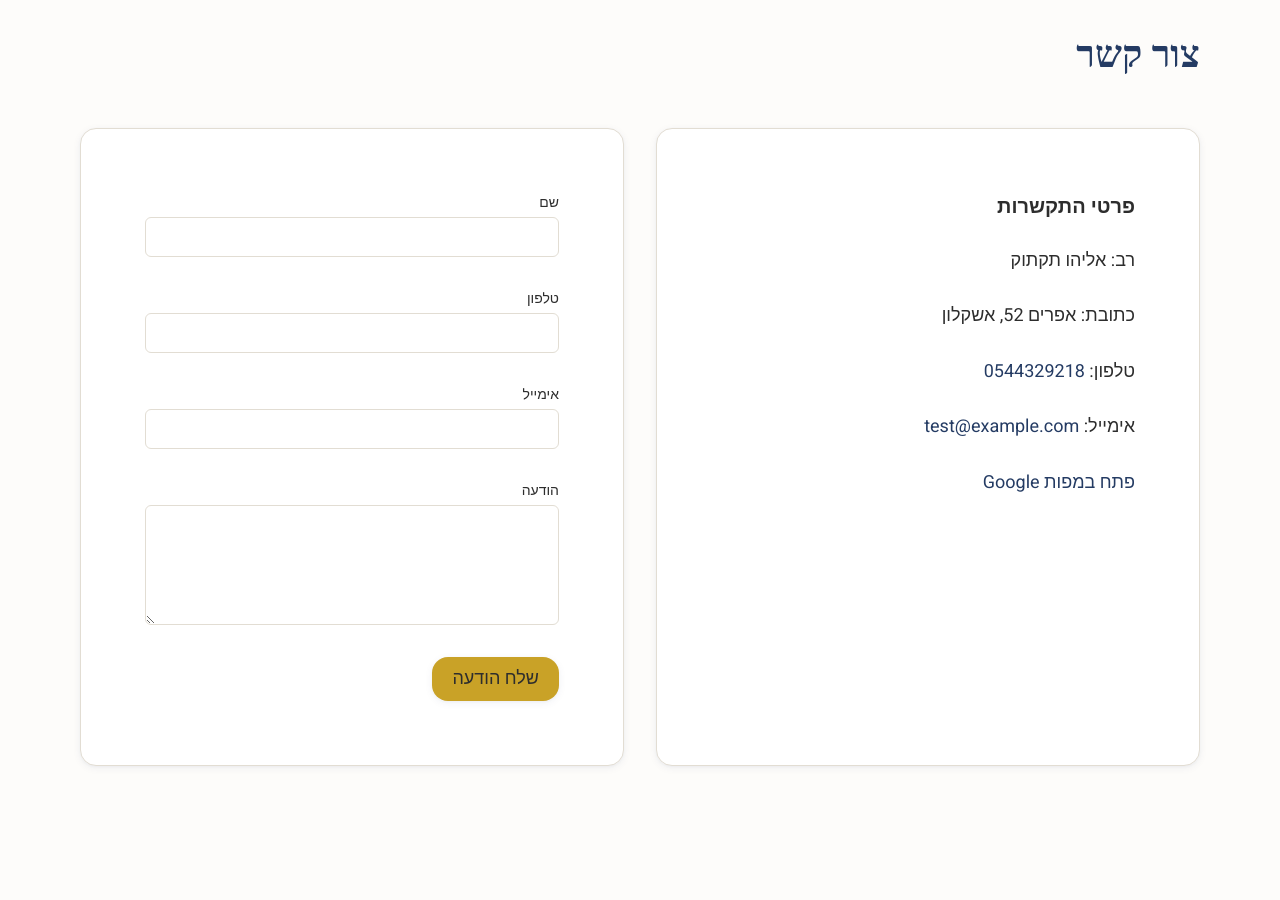
Test: ContactPage › submits valid form
Type "ישראל ישראלי" into the field labelled "שם" at (352,236), box [145,216,559,256]
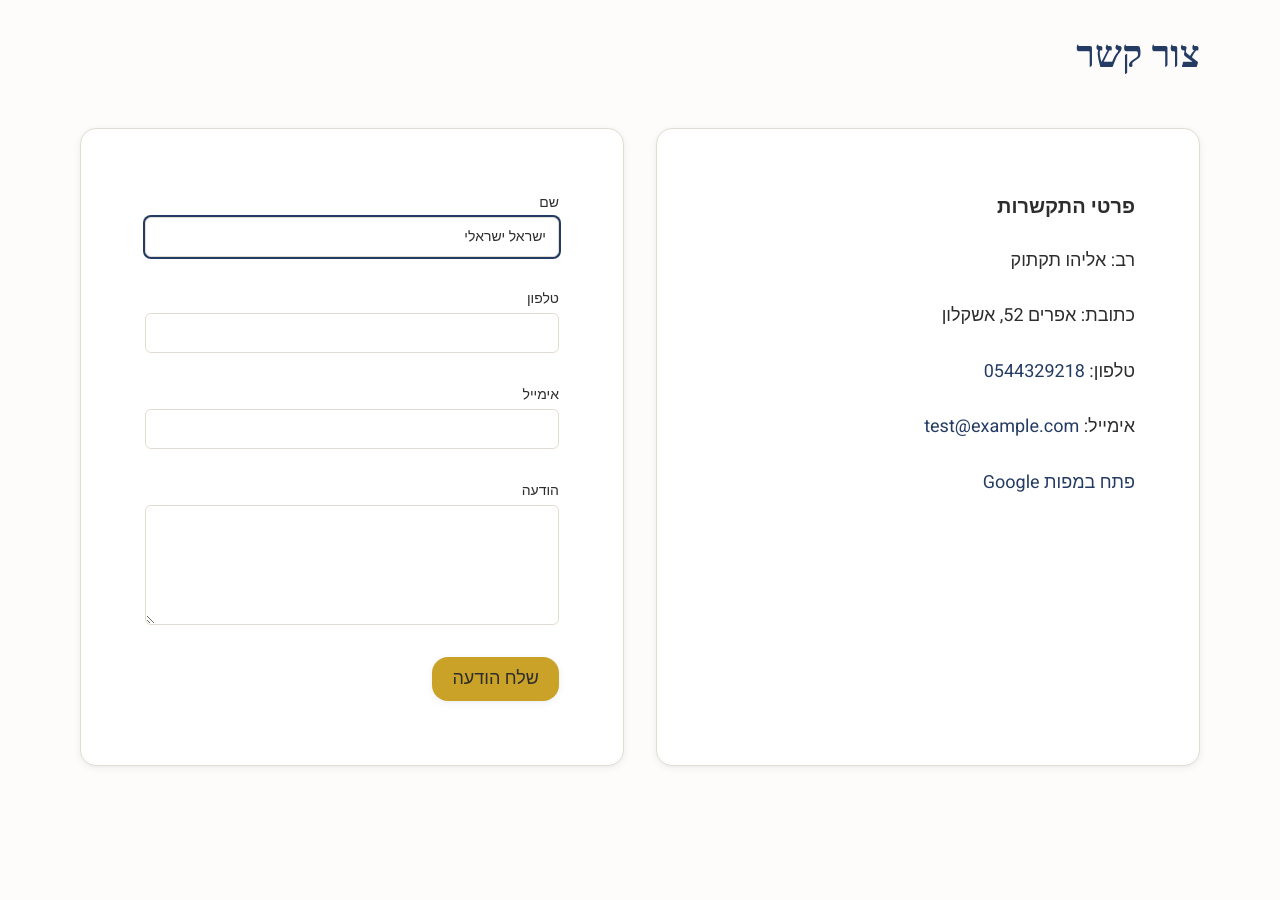
Type "0501234567" into the field labelled "טלפון" at (352,332), box [145,312,559,352]
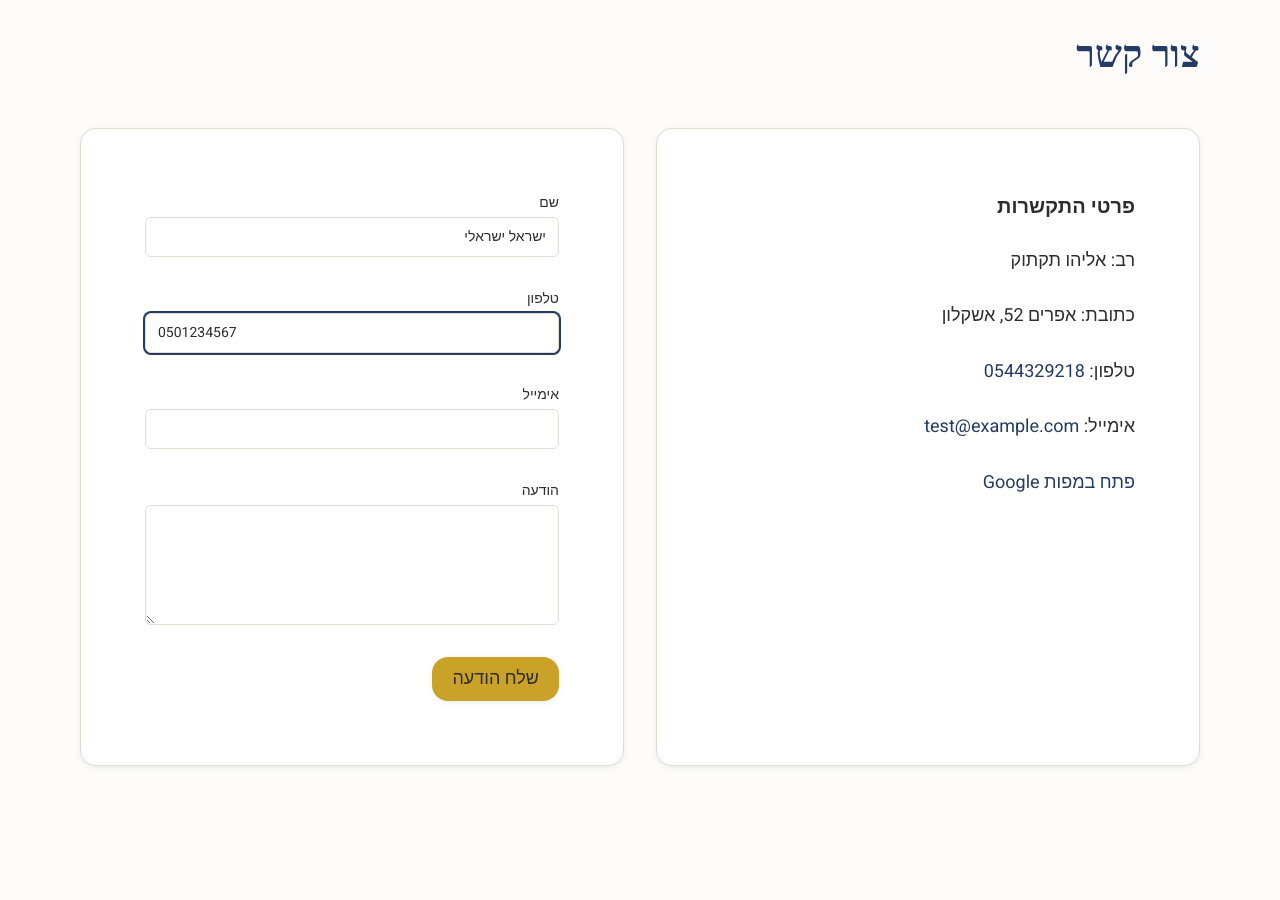
Type "test@example.com" into the field labelled "אימייל" at (352,428), box [145,408,559,448]
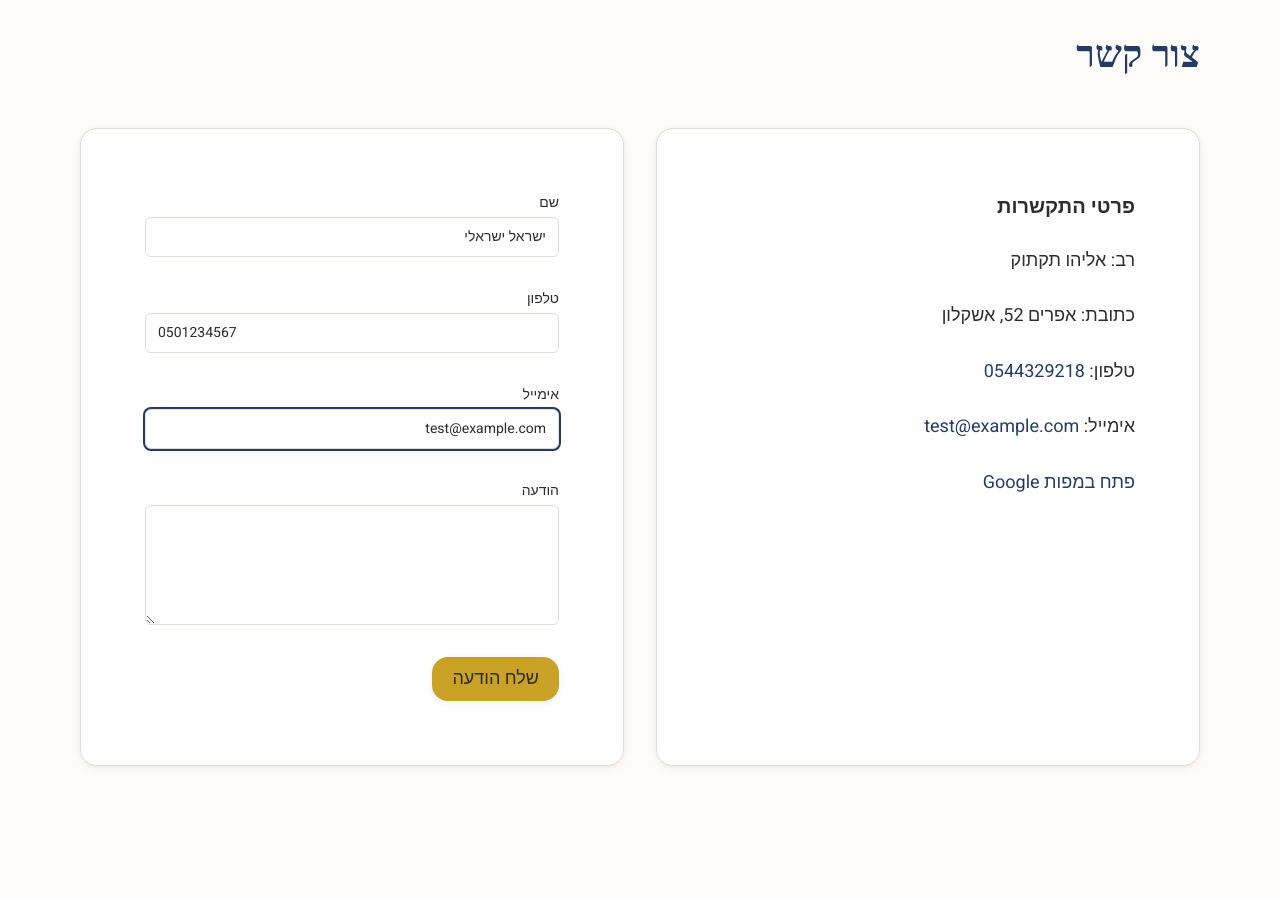
Type "הודעת בדיקה ארוכה" into the text box labelled "הודעה" at (352,564), box [145,504,559,624]
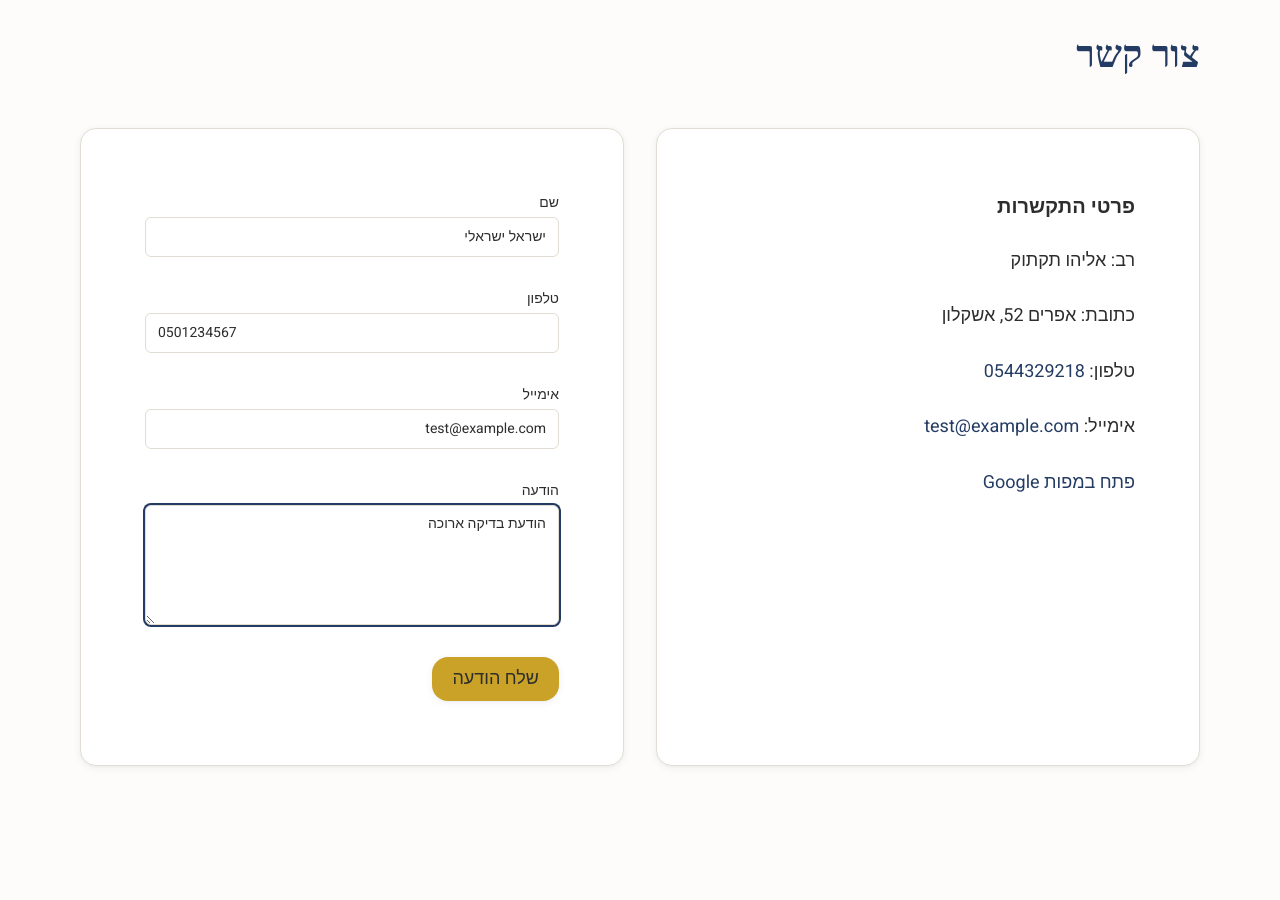
Click the button "שלח הודעה" at (496,678), box [432,656,559,700]
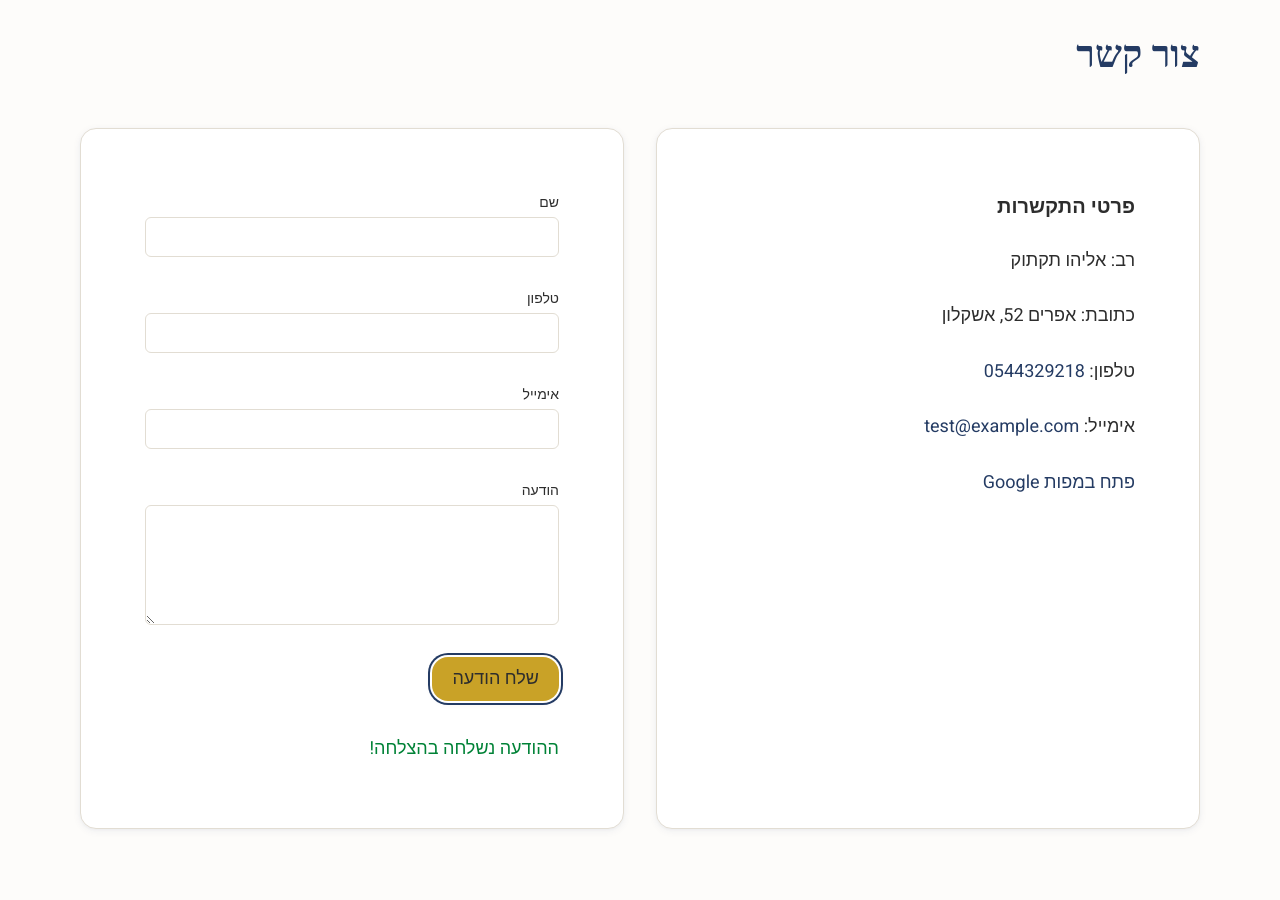
Now the text "ההודעה נשלחה בהצלחה!" is shown, box [369,734,559,762]
